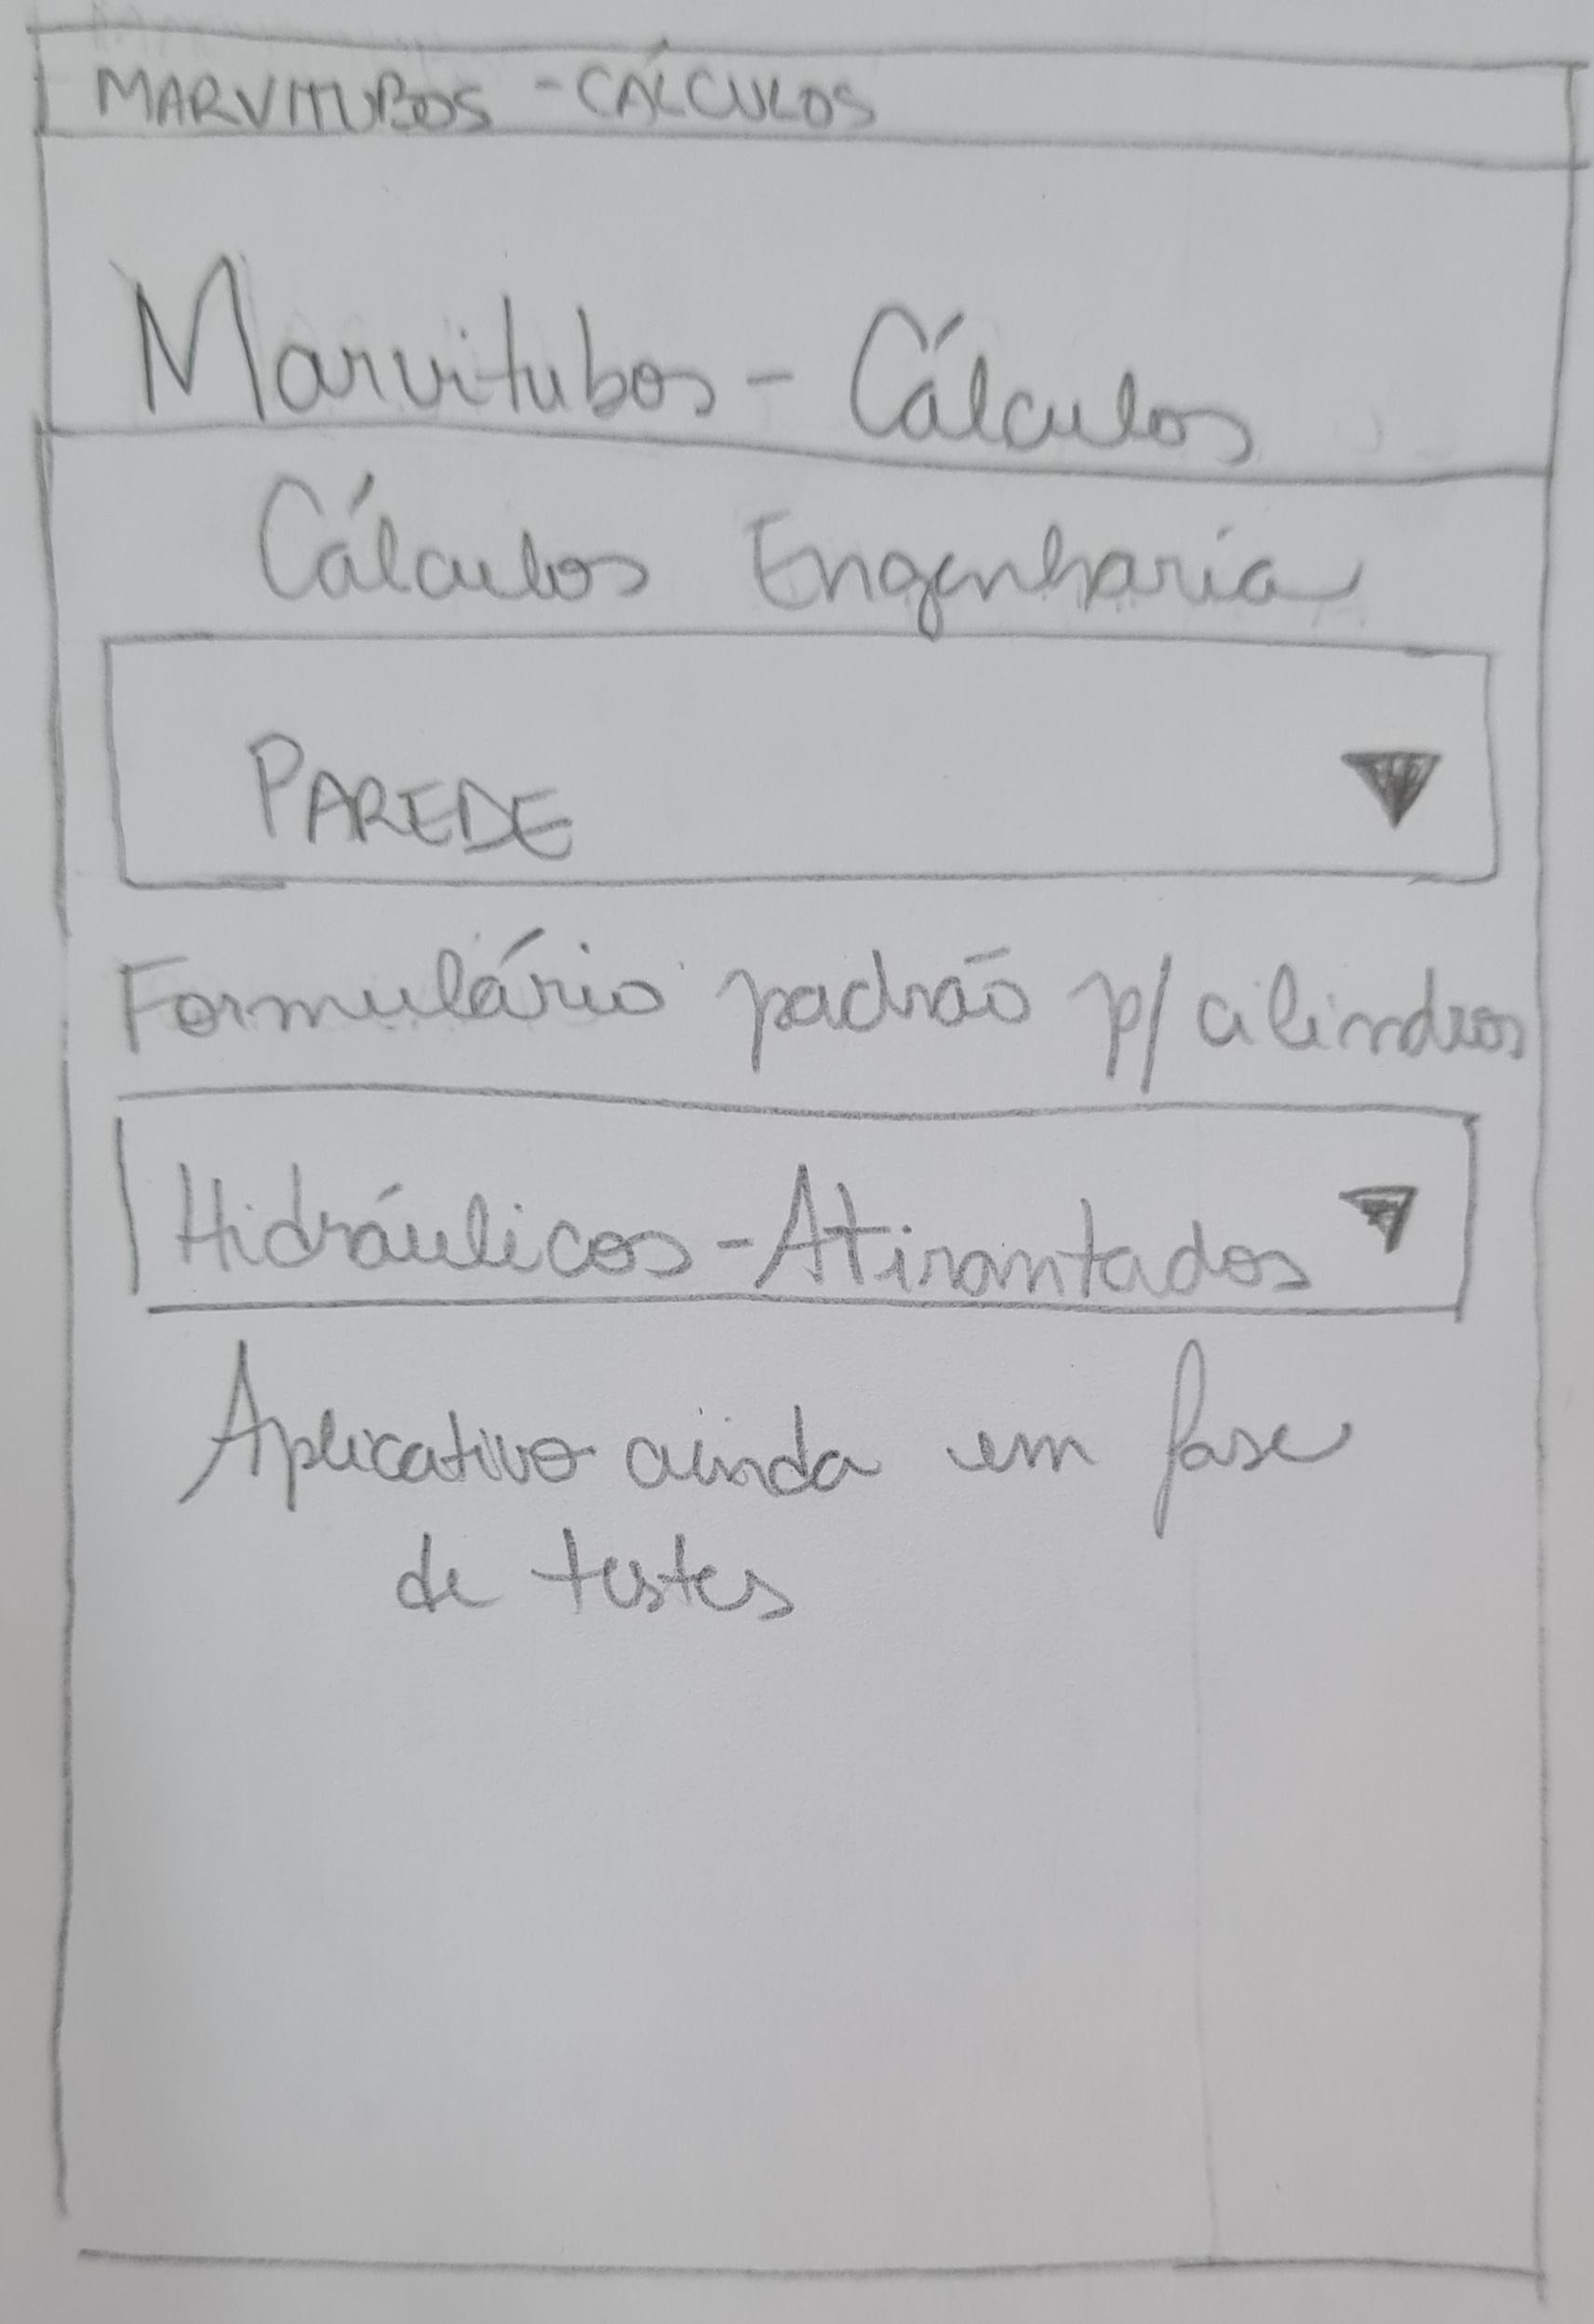Label: (170, 1340, 1355, 1623), (134, 253, 1255, 466), (124, 929, 1527, 1090), (256, 472, 1364, 639), (94, 51, 878, 134)
ListPicker: (106, 632, 1502, 890), (117, 1090, 1477, 1316)
Screen: (32, 18, 1573, 2282)
